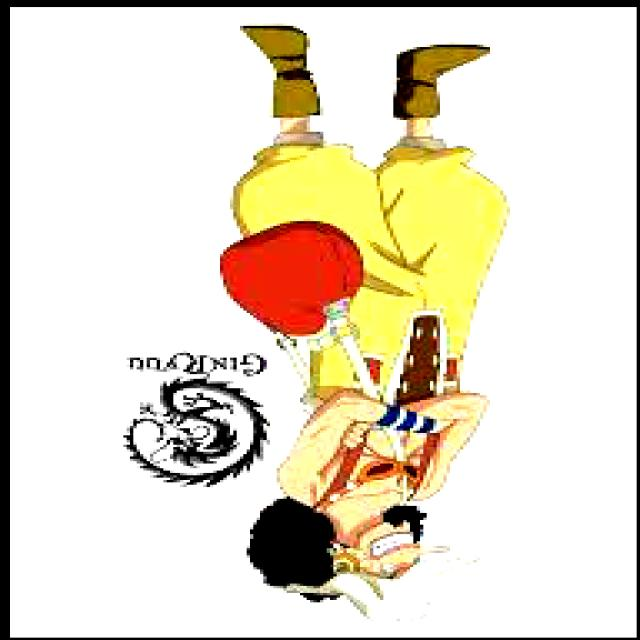Usopp: (217, 31, 510, 607)
